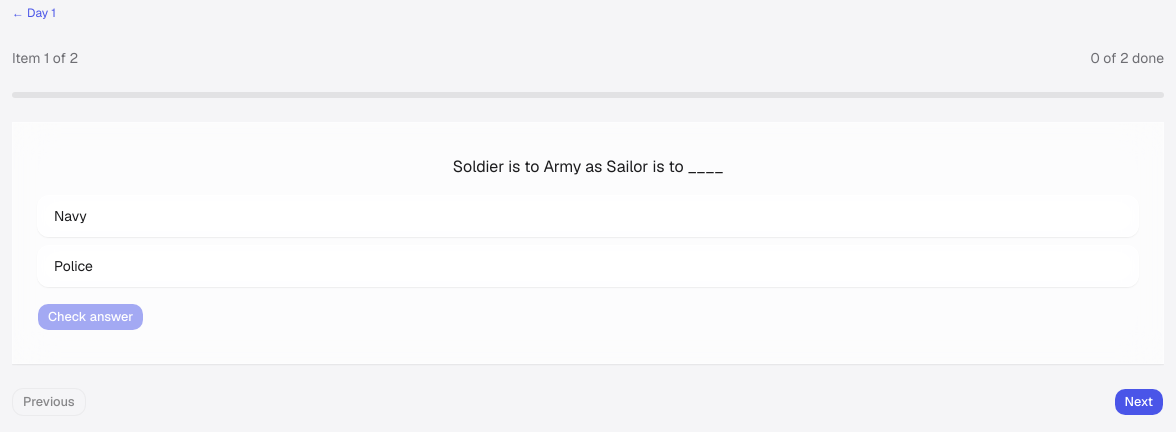
BankPracticeRunner (MCQ) › confirms a correct answer in text and saves the choice as done
Step 1. Click the button "Navy" → x=70, y=216, box [37, 195, 1139, 237]
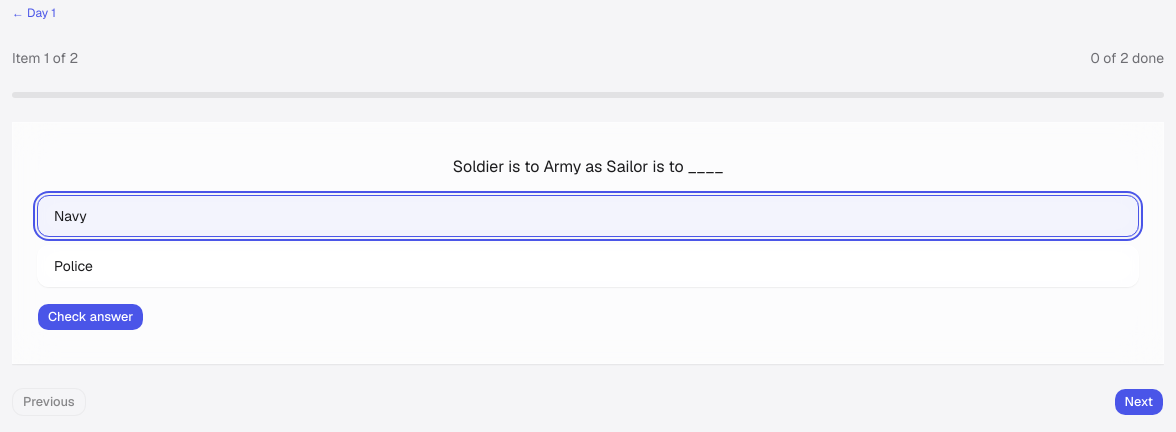
Step 2. Click the button "Check answer" → x=91, y=317, box [37, 303, 144, 331]
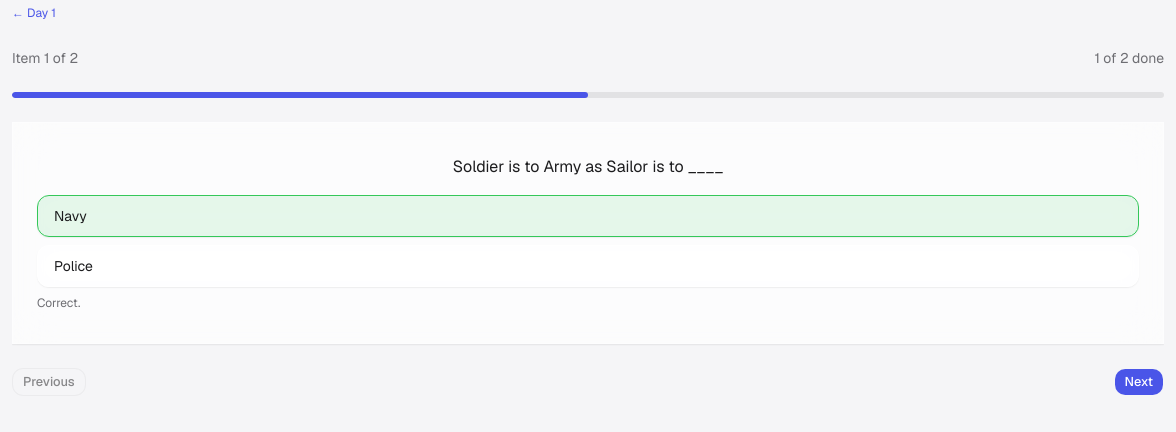
Expected: the text "Correct." is shown, [37, 295, 80, 311]
Expected: the text "1 of 2 done" is shown, [1094, 48, 1164, 68]
